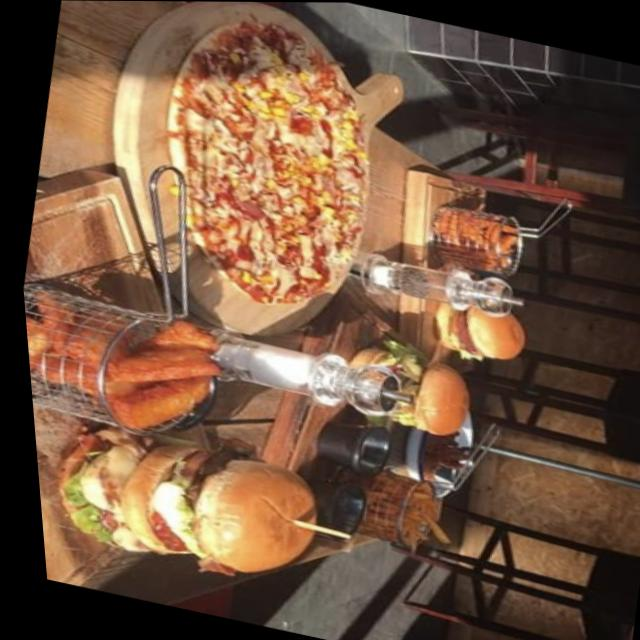burger: (31, 404, 329, 592), (330, 338, 475, 441), (422, 292, 530, 365)
pizza: (118, 1, 404, 318)
